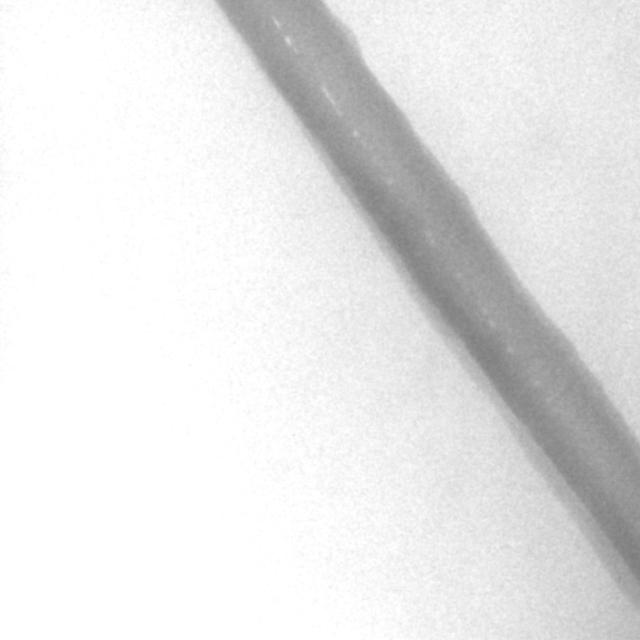air hole: (282, 31, 293, 47), (350, 125, 360, 141)
